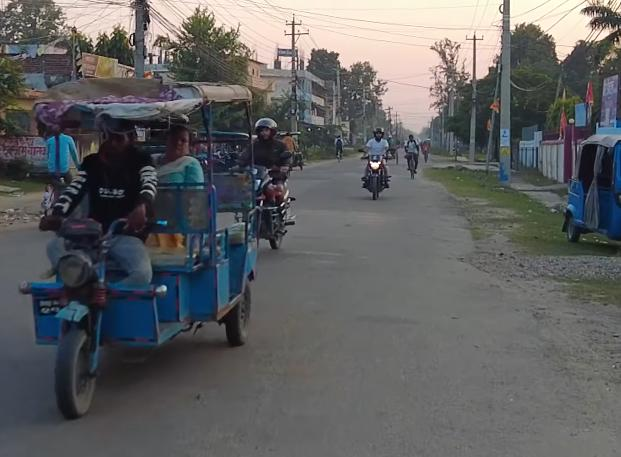auto_rickshaw: (559, 128, 621, 246)
bike: (254, 162, 296, 251), (359, 146, 394, 204)
e-rickshaw: (18, 65, 263, 427)
